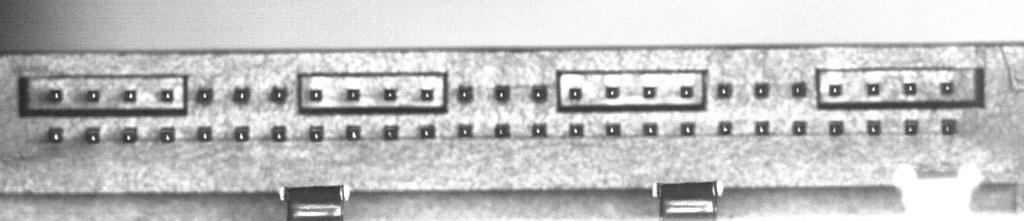pin_ok: (456, 85, 473, 102), (270, 85, 287, 102), (941, 118, 957, 135), (753, 82, 770, 98), (233, 86, 250, 102), (196, 87, 213, 103), (494, 85, 510, 101), (383, 124, 399, 140), (531, 85, 547, 101), (866, 119, 882, 135), (159, 127, 175, 143), (716, 83, 732, 99), (47, 127, 63, 143), (790, 82, 807, 97), (680, 121, 696, 136), (233, 126, 249, 141), (271, 125, 286, 141), (196, 126, 212, 141), (309, 125, 324, 141), (828, 120, 844, 135), (345, 125, 361, 140), (84, 128, 100, 143), (904, 118, 919, 134), (121, 127, 137, 142), (792, 120, 807, 135), (755, 120, 770, 135), (643, 121, 658, 136), (457, 123, 472, 138), (419, 125, 435, 139), (531, 123, 547, 137), (494, 123, 510, 137), (605, 122, 621, 136), (569, 122, 584, 136), (718, 120, 732, 135), (420, 87, 435, 101), (940, 81, 955, 95), (160, 88, 175, 102), (568, 87, 582, 101), (383, 87, 397, 101), (828, 83, 842, 97), (903, 81, 917, 95), (866, 83, 881, 96), (679, 85, 694, 98), (642, 85, 657, 98), (605, 85, 620, 98), (346, 88, 360, 101), (123, 89, 137, 102), (86, 89, 100, 102), (309, 88, 322, 101), (48, 89, 62, 101)
